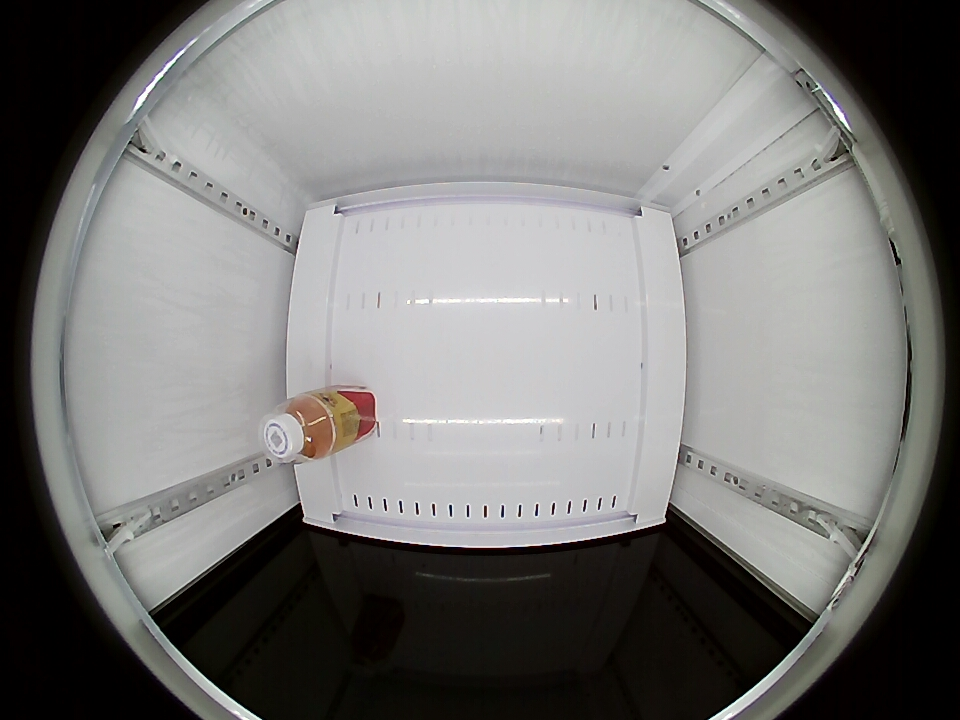dongpeng-b: (260, 393, 336, 463)
